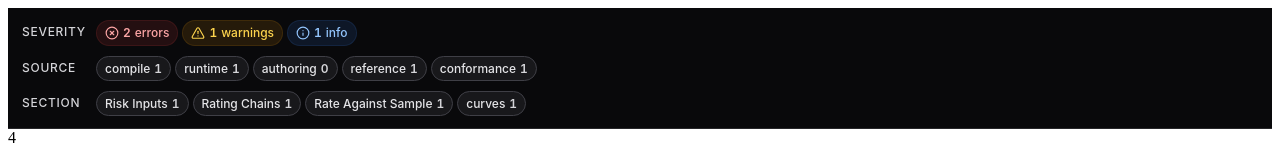
Test case: <ErrorFilter> › clicking a severity chip toggles the filter
Click the button "2 errors".
click(137, 33)  # box [96, 20, 178, 46]
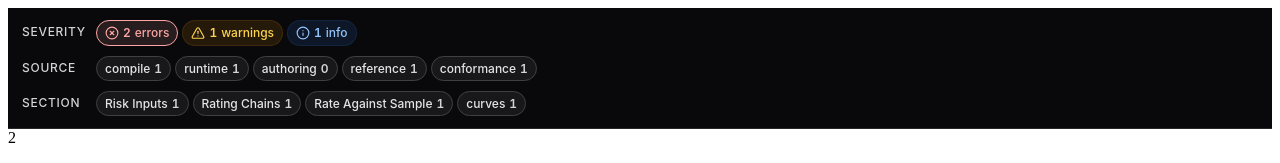
Result: the text with test id "visible-count" reads "2" at [8, 129, 16, 146]
// Click again to clear
Click the button "2 errors".
click(137, 33)  # box [96, 20, 178, 46]
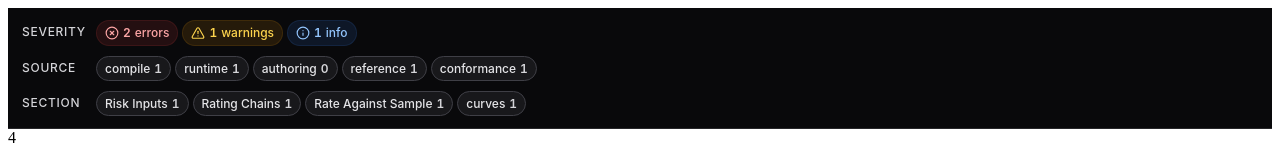
Result: the text with test id "visible-count" reads "4" at [8, 129, 16, 146]
